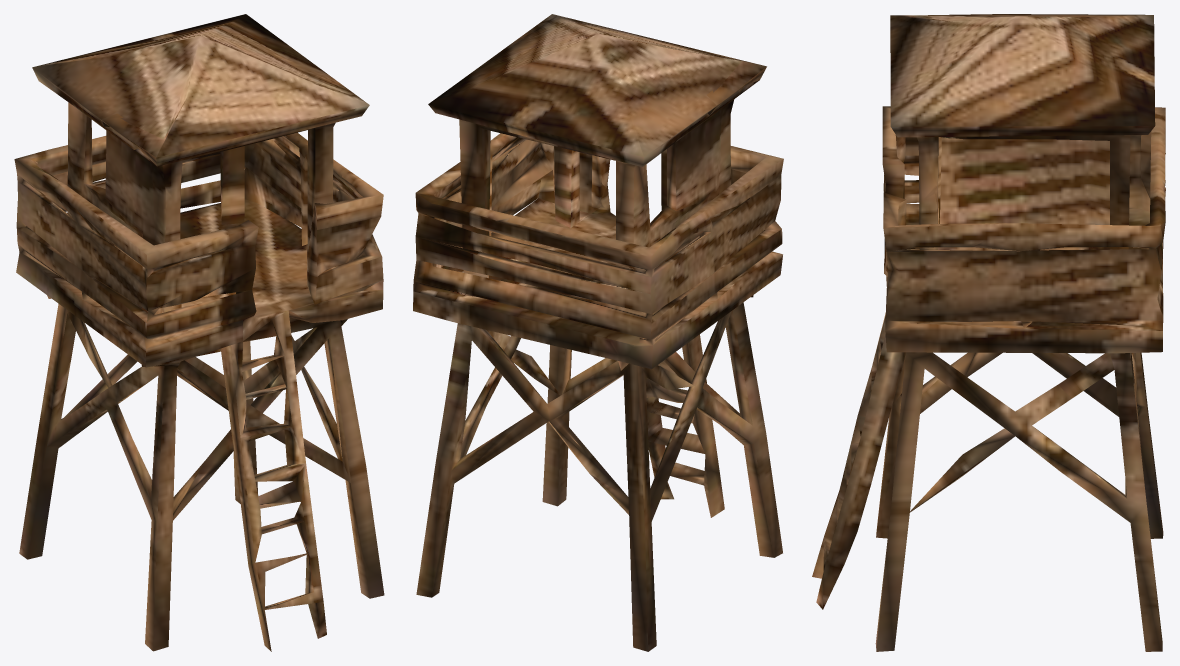
Rendered from stand.glb.
3 renders of one model, left to right at view 1: azimuth 30°, elevation 25°; view 2: azimuth 150°, elevation 25°; view 3: azimuth 270°, elevation 25°, orthographic. The views are drawn at different scales.
Parts seen in each view (by area): view 1: geometry_0; view 2: geometry_0; view 3: geometry_0.
Boxes of the visible parts, box(x1,y1,x2,y2) form: geometry_0: box(14, 14, 384, 651); geometry_0: box(413, 14, 783, 651); geometry_0: box(812, 14, 1165, 651).
Size of the model in its own units: 2.08 by 4.5 by 2.5.
Materials: 1 (1 with a texture image).
